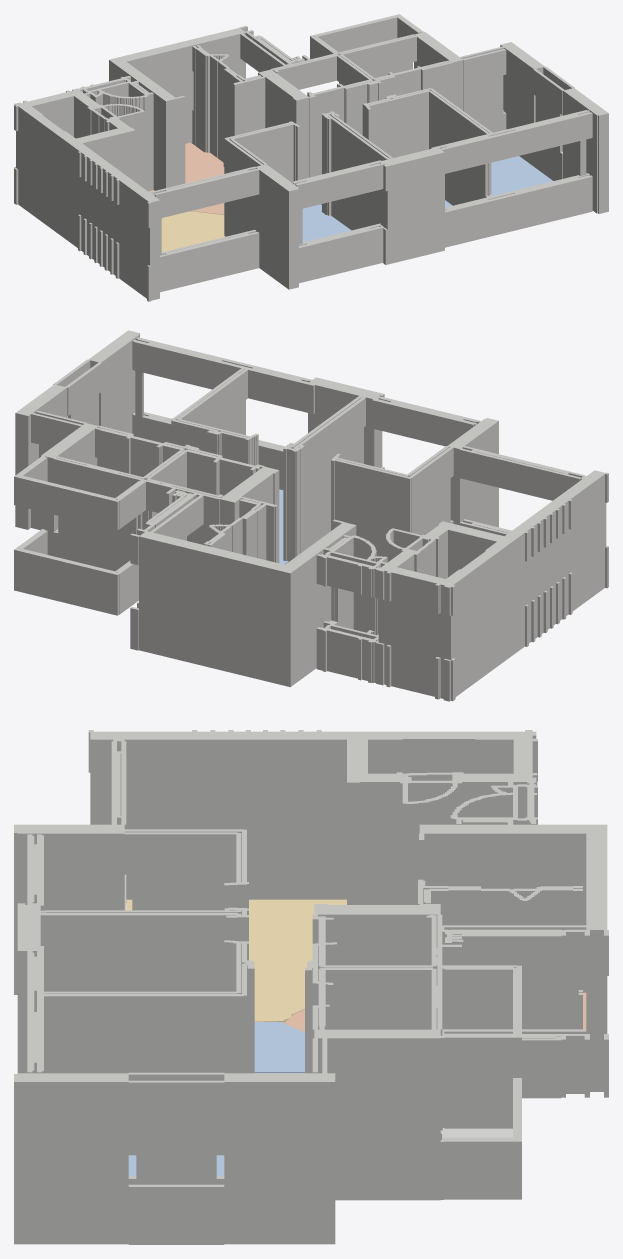
3 renders of one model, top to bottom at view 1: azimuth 30°, elevation 25°; view 2: azimuth 150°, elevation 25°; view 3: azimuth 270°, elevation 25°, orthographic. The views are drawn at different scales.
Visible parts, largest first — view 1: walls, room:living:6, room:bedroom:9, room:kitchen:0, room:bedroom:7; view 2: walls; view 3: walls, room:living:6, room:bedroom:7, room:ledge:3.
Boxes of the visible parts, x1,y1,x2,y2 form: walls: (14, 14, 608, 301); room:living:6: (161, 211, 225, 252); room:bedroom:9: (491, 156, 553, 195); room:kitchen:0: (149, 142, 224, 214); room:bedroom:7: (302, 204, 351, 242); walls: (14, 330, 608, 701); walls: (14, 730, 608, 1244); room:living:6: (126, 899, 346, 1022); room:bedroom:7: (254, 1022, 304, 1072); room:ledge:3: (442, 1128, 512, 1137).
Bounding box in the file's own units: 13.07 × 2.8 × 9.32.
